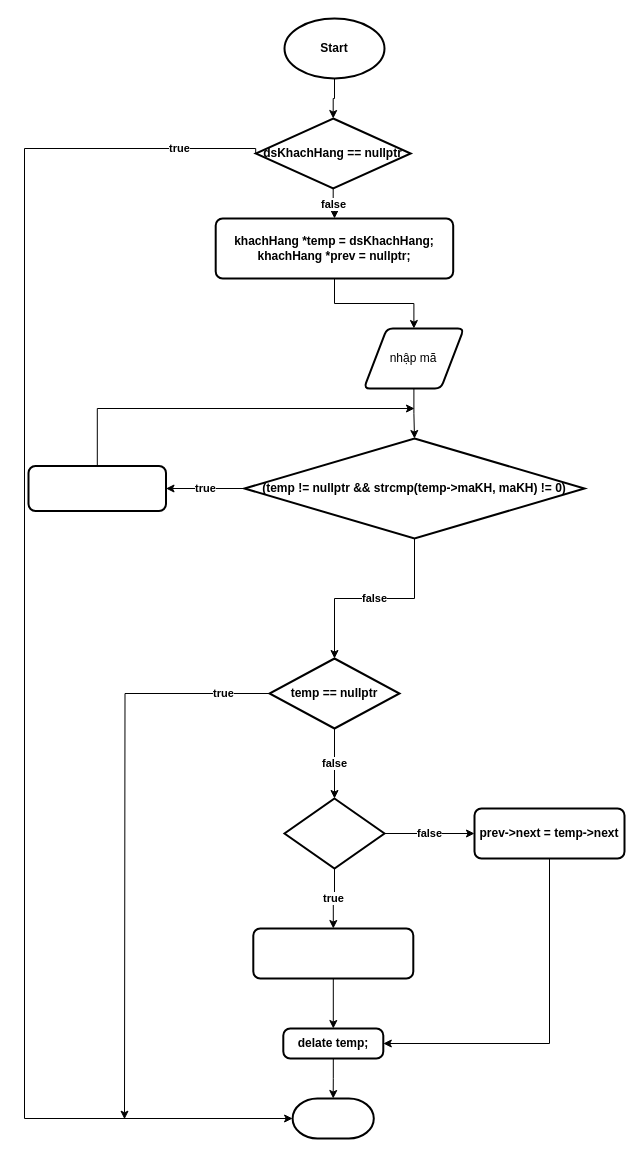
Image size: 643x1156. Some labels were removed from this diagram. Each missing label, with the centre of its shape:
dsKhachHang = dsKhachHang->next: the point at 333,953
End: the point at 332,1118
prev = temp; temp = temp->next: the point at 96,488
prev == nullptr: the point at 334,833
